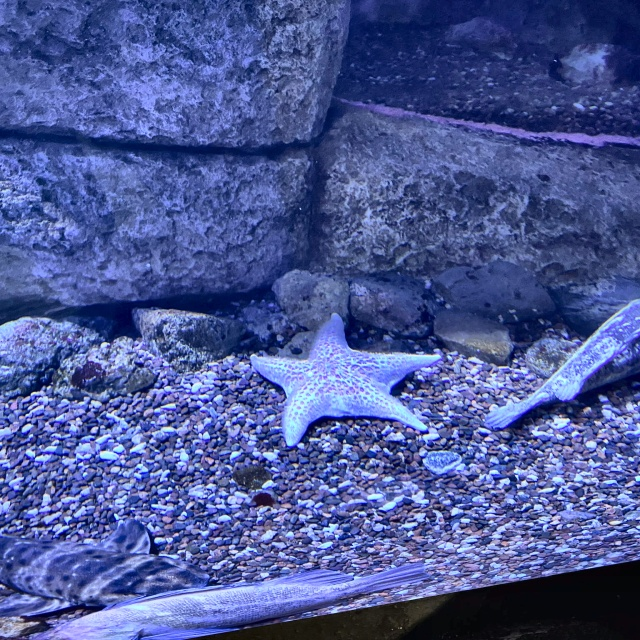fish: (11, 551, 424, 639), (476, 294, 639, 431)
starfish: (248, 322, 432, 451)
